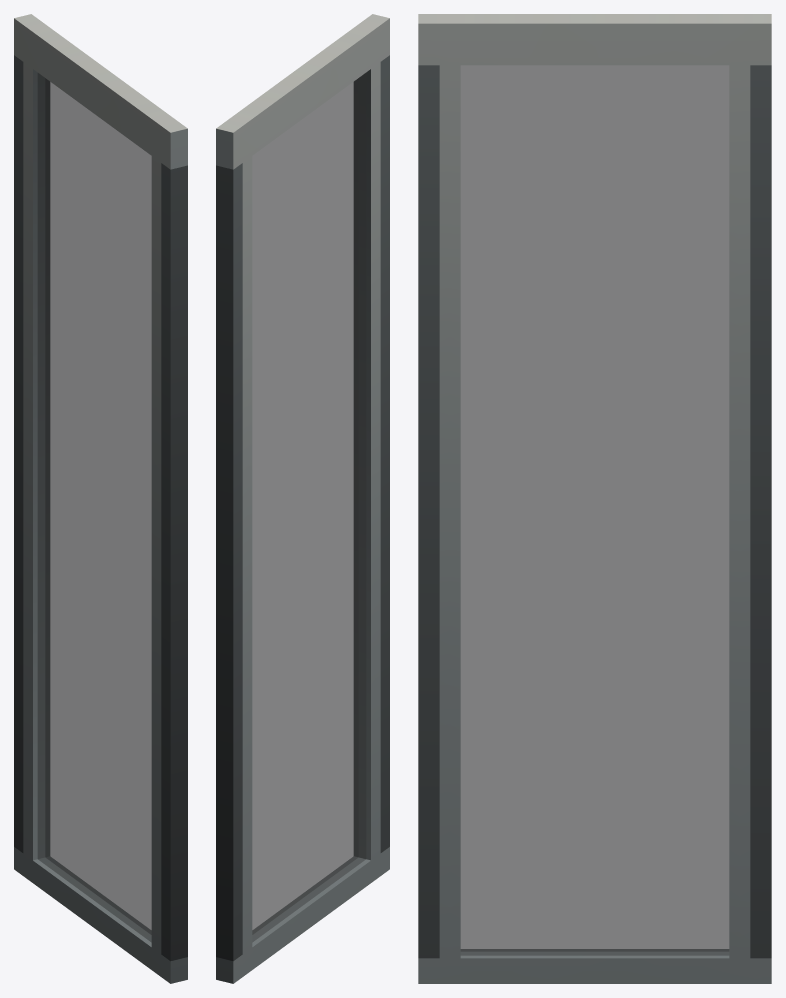
File: TSP_Interior_Wall_Short_06A.fbx
The picture shows the model from 3 angles, left to right: view 1: azimuth 30°, elevation 25°; view 2: azimuth 150°, elevation 25°; view 3: azimuth 270°, elevation 25°; orthographic projection. The views are drawn at different scales.
Parts seen in each view (by area): view 1: TSP_Interior_Wall_Short_06A; view 2: TSP_Interior_Wall_Short_06A; view 3: TSP_Interior_Wall_Short_06A.
Part boxes in pixels (<box>): TSP_Interior_Wall_Short_06A: <box>14,14,187,983</box>; TSP_Interior_Wall_Short_06A: <box>216,14,389,983</box>; TSP_Interior_Wall_Short_06A: <box>418,14,771,983</box>.
Size of the model in its own units: 0.064 by 3 by 1.
